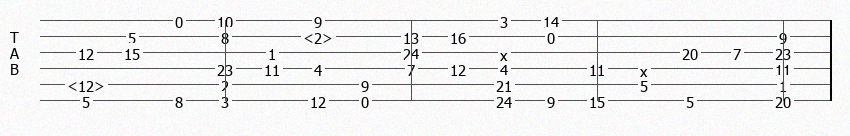0: (175, 13, 187, 28), (361, 93, 373, 108), (547, 29, 559, 44)
1: (268, 45, 280, 60), (779, 77, 791, 92)
10: (217, 13, 237, 28)
11: (264, 61, 284, 76), (589, 61, 609, 76), (775, 61, 795, 76)
12: (78, 45, 98, 60), (310, 93, 330, 108), (450, 61, 470, 76)
13: (403, 29, 423, 44)
14: (543, 13, 563, 28)
15: (124, 45, 144, 60), (589, 93, 609, 108)
16: (450, 29, 470, 44)
2: (221, 77, 233, 92)
20: (682, 45, 702, 60), (775, 93, 795, 108)
21: (496, 77, 516, 92)
23: (217, 61, 237, 76), (775, 45, 795, 60)
24: (403, 45, 423, 60), (496, 93, 516, 108)
3: (221, 93, 233, 108), (500, 13, 512, 28)
4: (314, 61, 326, 76), (500, 61, 512, 76)
5: (82, 93, 94, 108), (128, 29, 140, 44), (640, 77, 652, 92), (686, 93, 698, 108)
7: (407, 61, 419, 76), (733, 45, 745, 60)
8: (175, 93, 187, 108), (221, 29, 233, 44)
9: (314, 13, 326, 28), (361, 77, 373, 92), (547, 93, 559, 108), (779, 29, 791, 44)
harmonic: (67, 77, 109, 92), (303, 29, 337, 44)
x: (500, 46, 512, 58), (640, 62, 652, 74)
